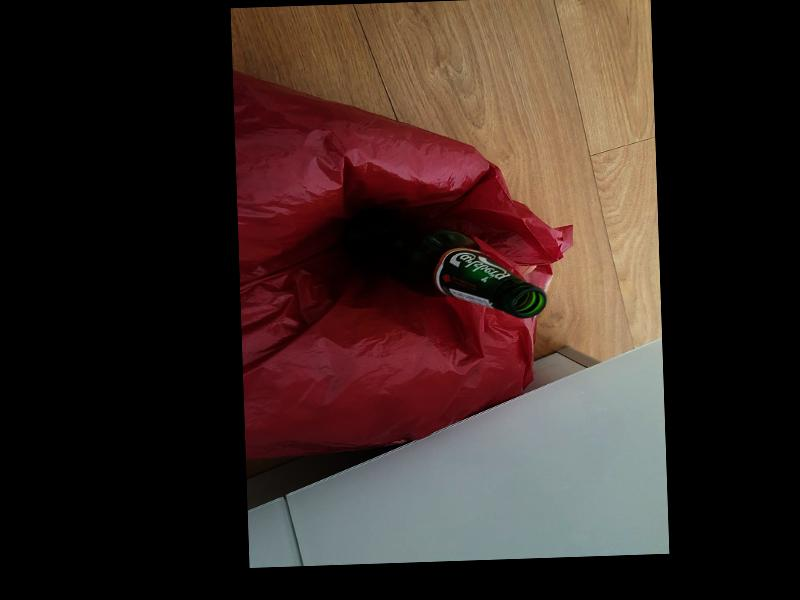Beer: (345, 202, 548, 322)
